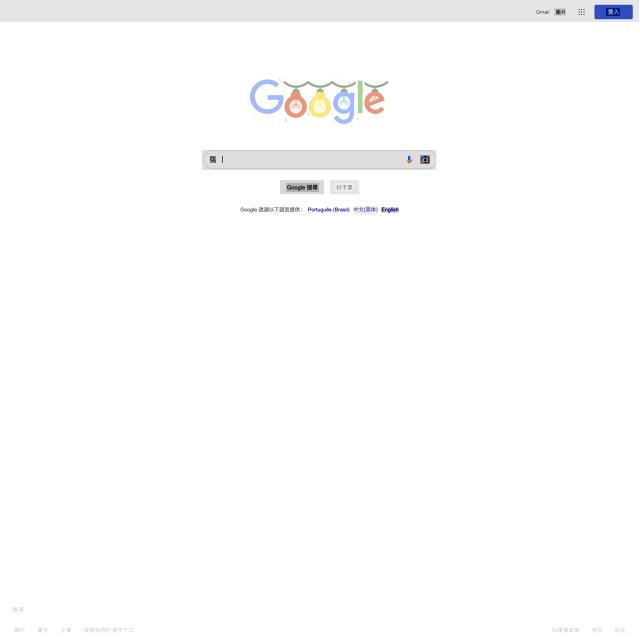CheckBox: (280, 180, 324, 194), (595, 4, 633, 20), (330, 180, 359, 194), (307, 206, 350, 214), (353, 206, 378, 214), (381, 207, 399, 213), (536, 8, 550, 15), (554, 8, 566, 16)
CheckedTextView: (202, 150, 436, 170)
badge: (0, 597, 640, 640)
bag: (0, 0, 639, 22)
carousel: (420, 155, 430, 164), (578, 7, 586, 17), (406, 155, 412, 164), (210, 156, 216, 163)
data feed: (286, 183, 319, 192), (334, 183, 354, 192), (606, 8, 620, 16)
date picker: (242, 75, 395, 127)
